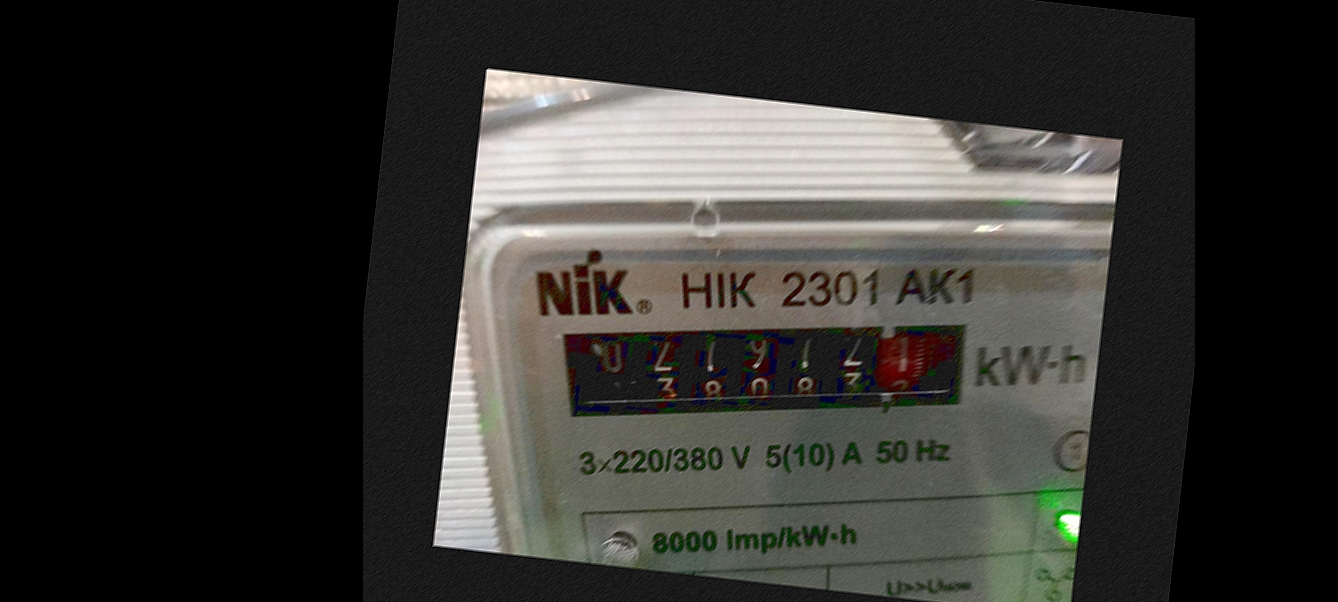0: (597, 334, 629, 373)
1: (892, 330, 918, 375)
2: (647, 331, 680, 373), (838, 328, 870, 368)
7: (791, 328, 821, 371), (697, 333, 724, 373)
9: (745, 332, 774, 369)
screen: (537, 268, 1004, 471)
